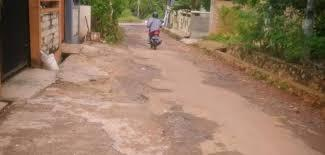Pothole: (184, 37, 325, 155), (85, 48, 185, 106)
